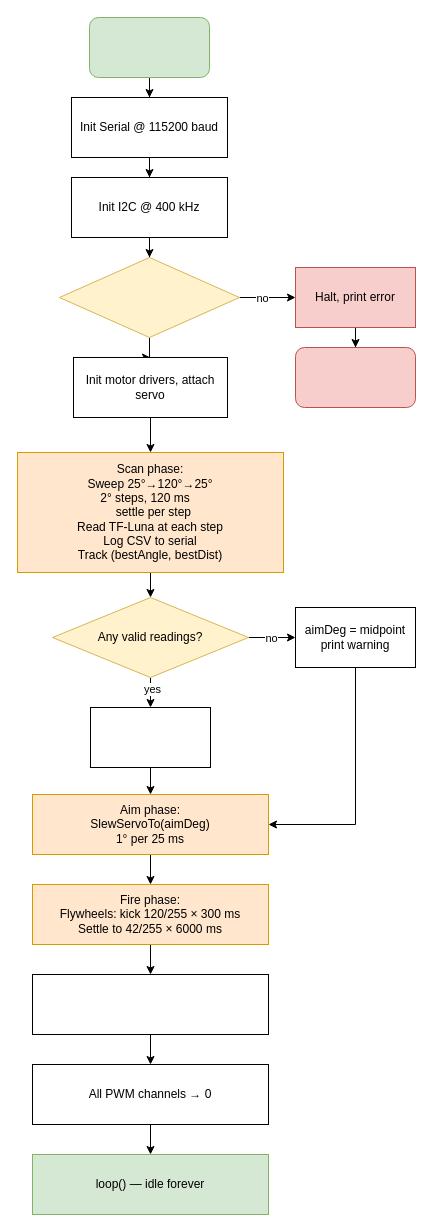
This 433x1232 diagram has some shape labels left out. Here are the shapes that lost their labels. From the top down, the box of each, then its label:
(88, 16, 210, 78): Power on / reset
(58, 256, 240, 338): TF-Luna responds?
(294, 346, 416, 408): End
(90, 706, 210, 768): aimDeg = bestAngle
(32, 974, 268, 1034): Indexer ON: 150/255 × 50000 ms
